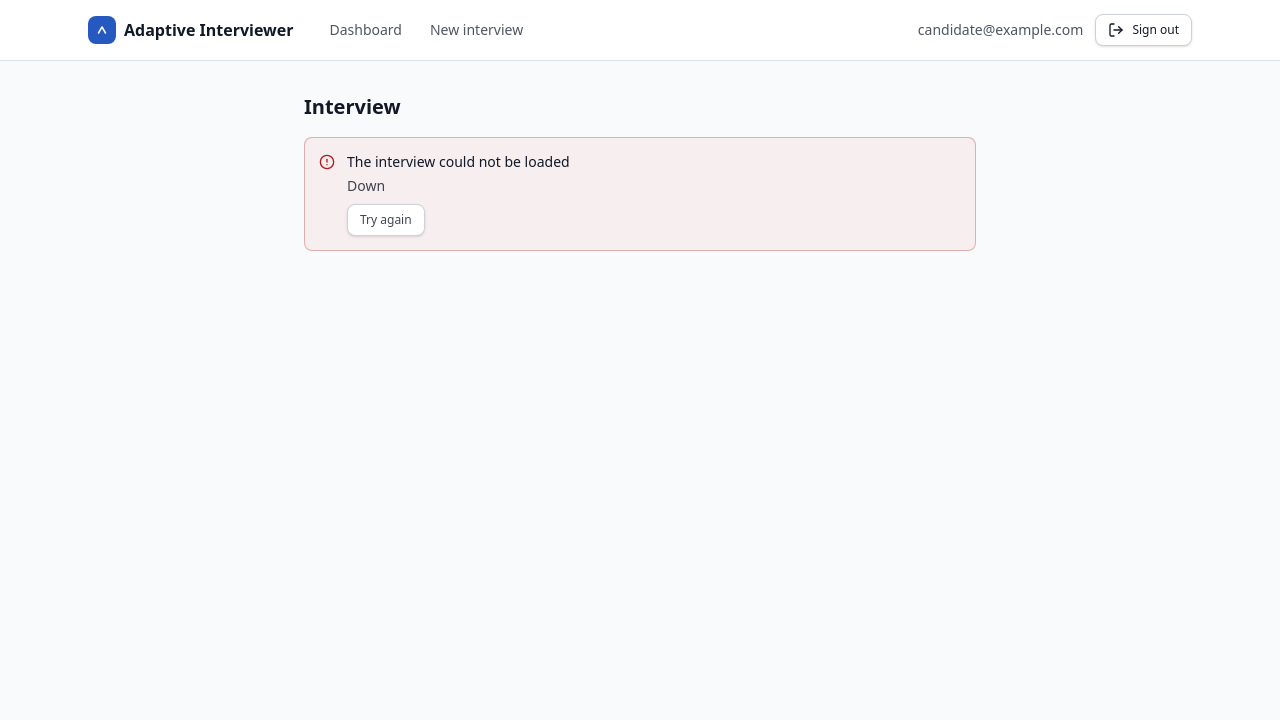
Test: interview screen: loading › offers a retry when the snapshot cannot be loaded
The width and height of the screenshot is (1280, 720).
Click the button "Try again" at point(386, 220), box left=347, top=204, right=425, bottom=236
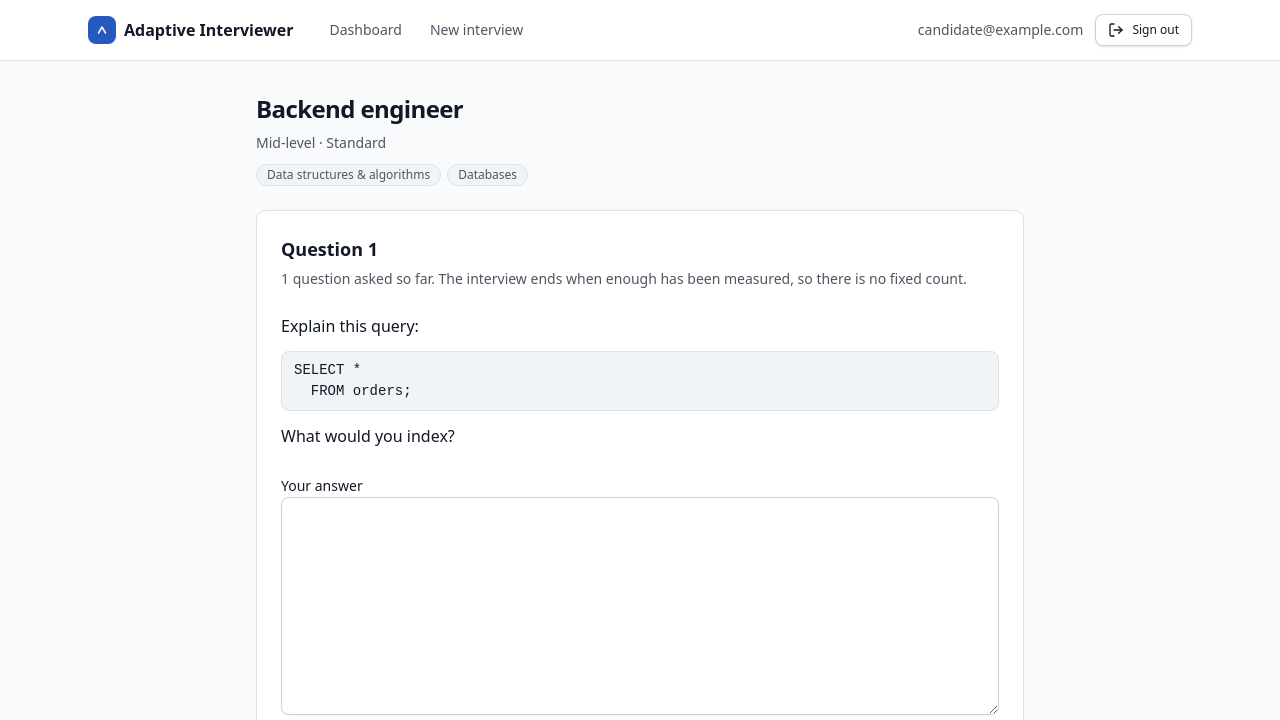
Result: the heading "Question 1" is shown at left=281, top=237, right=378, bottom=261
